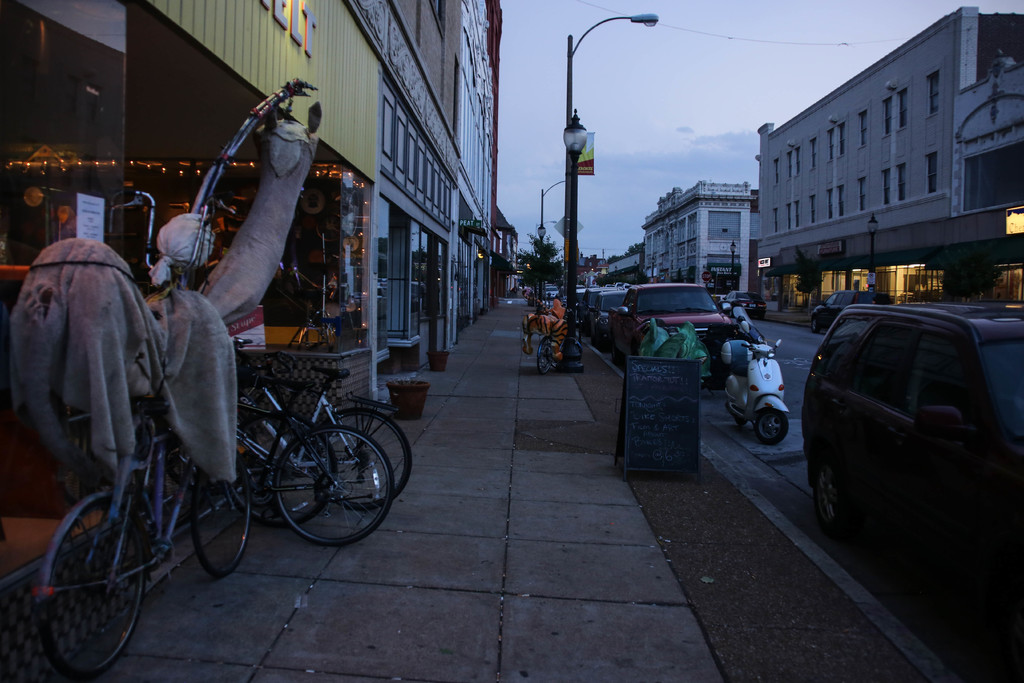Car: (794, 287, 1008, 579), (541, 282, 727, 375), (806, 286, 885, 329), (728, 285, 764, 316)
